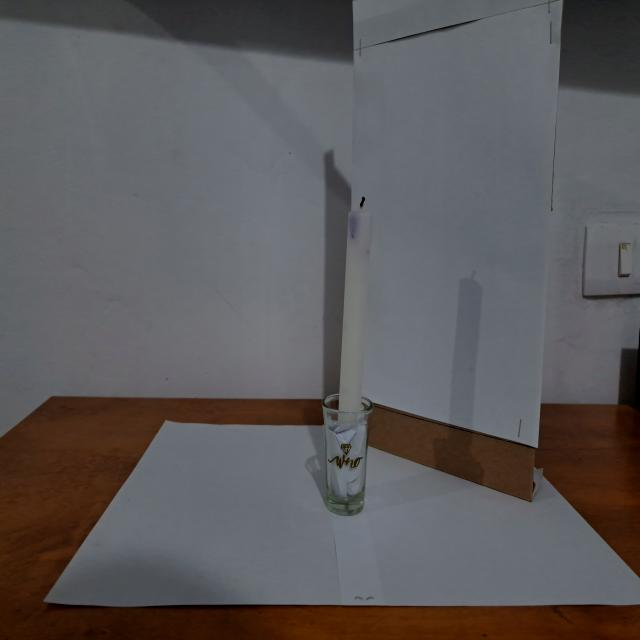candle: (318, 172, 380, 519)
wall: (350, 0, 560, 501)
